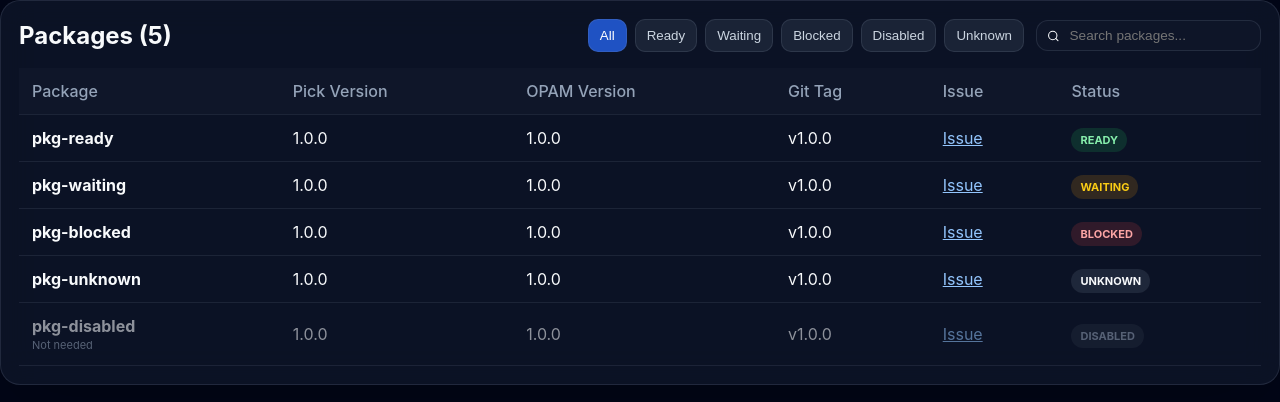
PackageTable › Filtering by status › should filter packages by ready status
The image size is (1280, 402).
Click the button "Ready": (666, 36) [635,19,697,52]
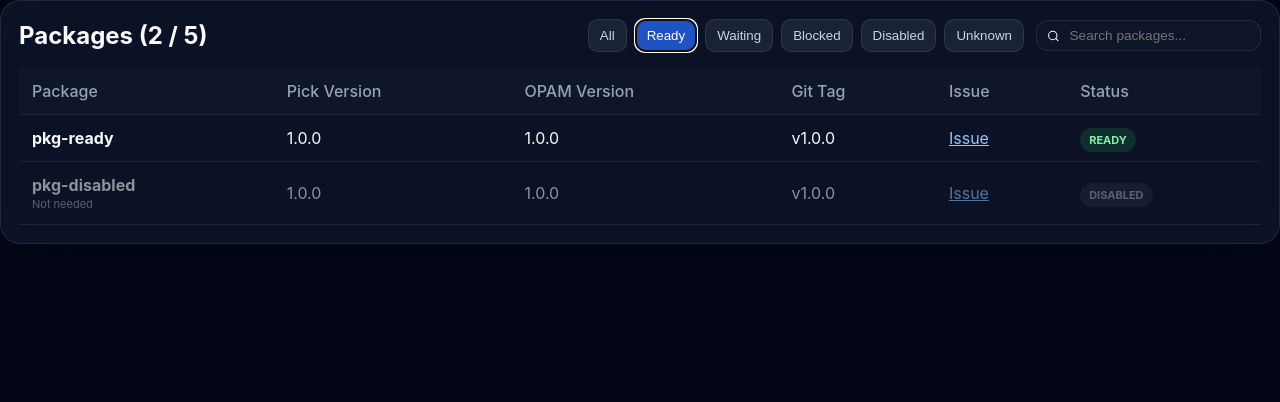
Expected: the text "pkg-ready" is shown, [32,128,114,148]
Now the text "pkg-waiting" is gone
Now the text "pkg-blocked" is gone
